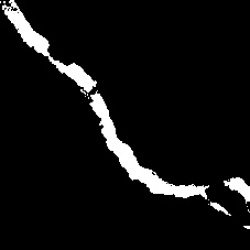crack: (91, 92, 228, 217), (4, 2, 98, 93), (224, 176, 249, 202), (242, 224, 249, 228)
